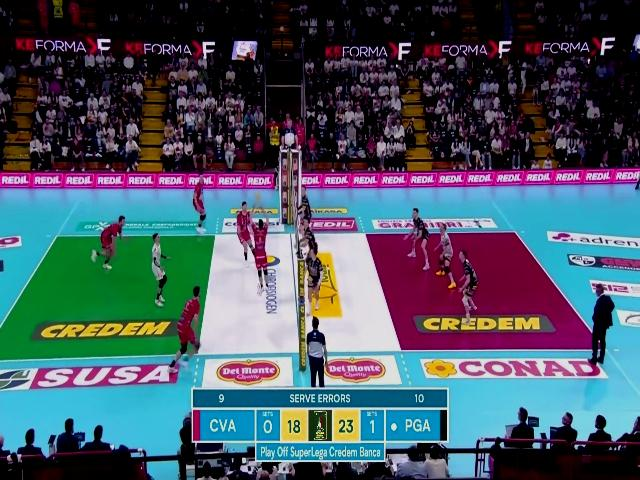volleyball court: (0, 233, 599, 360)
